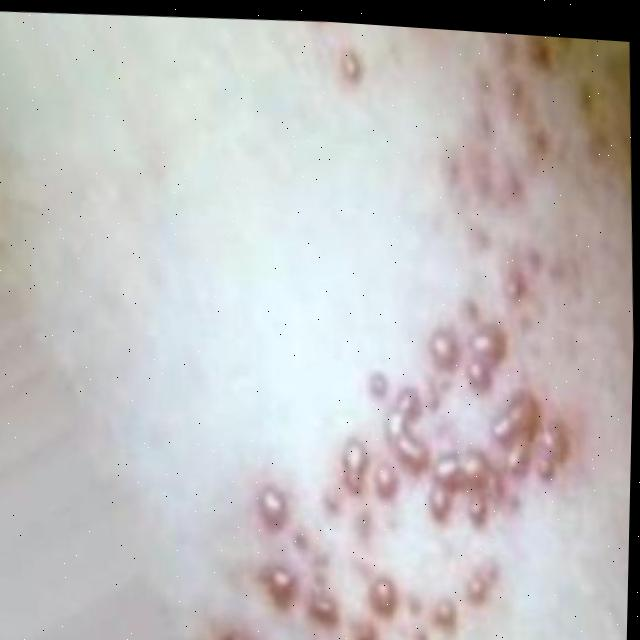Shingles: (177, 13, 624, 640)
